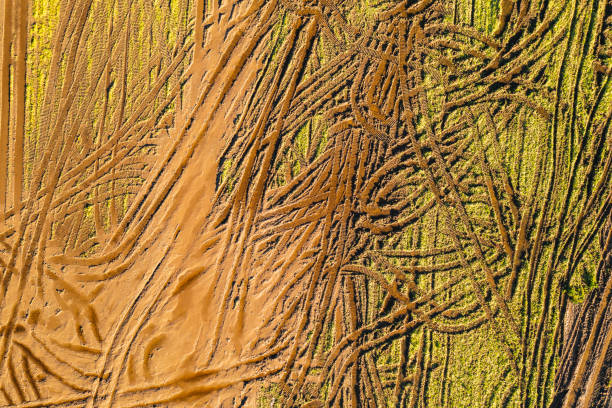vehicle_track: (337, 50, 492, 396), (0, 12, 117, 381), (212, 18, 314, 363)
